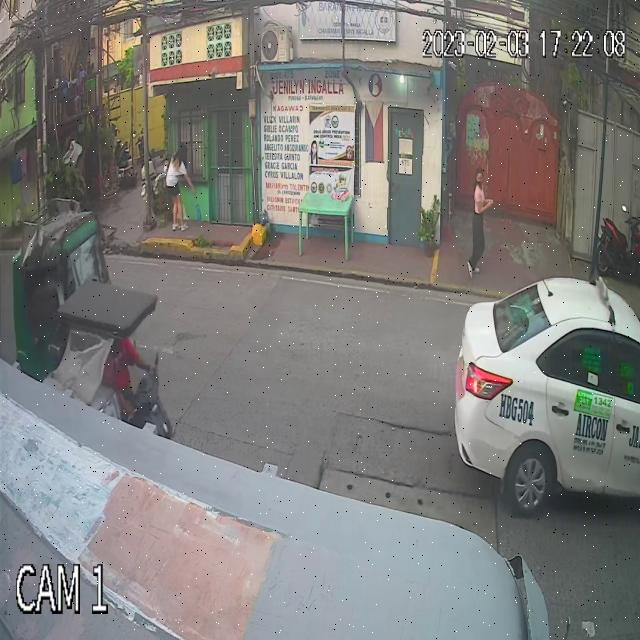human: (164, 142, 202, 232)
trash: (195, 202, 202, 221)
